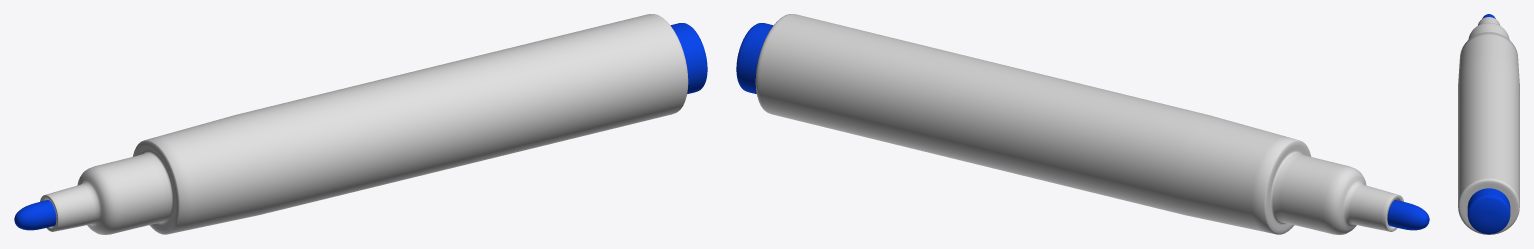
The model's file is FELT_PEN.fbx.
3 views of the same model, side by side, from view 1: azimuth 30°, elevation 25°; view 2: azimuth 150°, elevation 25°; view 3: azimuth 270°, elevation 25° (orthographic). The views are drawn at different scales.
Visible parts, largest first — view 1: Felt pen0; view 2: Felt pen0; view 3: Felt pen0.
Part boxes in pixels (x1,y1,x2,y2): Felt pen0: (14, 14, 707, 234); Felt pen0: (736, 14, 1429, 234); Felt pen0: (1458, 14, 1519, 234).
Size of the model in its own units: 10.33 by 1.36 by 1.36.
